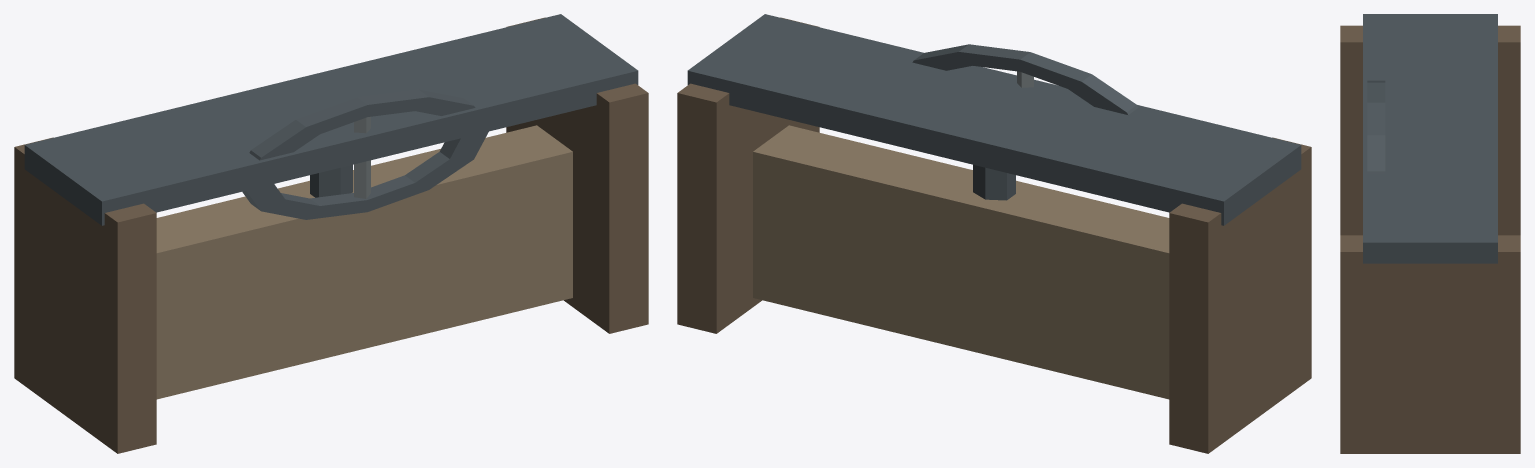
File: sluice_frame.glb
The picture shows the model from 3 angles, left to right: view 1: azimuth 30°, elevation 25°; view 2: azimuth 150°, elevation 25°; view 3: azimuth 270°, elevation 25°; orthographic projection. The views are drawn at different scales.
Visible parts, largest first — view 1: sluice_frame; view 2: sluice_frame; view 3: sluice_frame.
Boxes of the visible parts, x1,y1,x2,y2 form: sluice_frame: (14,14,648,453); sluice_frame: (677,14,1311,453); sluice_frame: (1340,14,1520,453).
Bounding box in the file's own units: 5.76 × 2.8 × 1.92.
